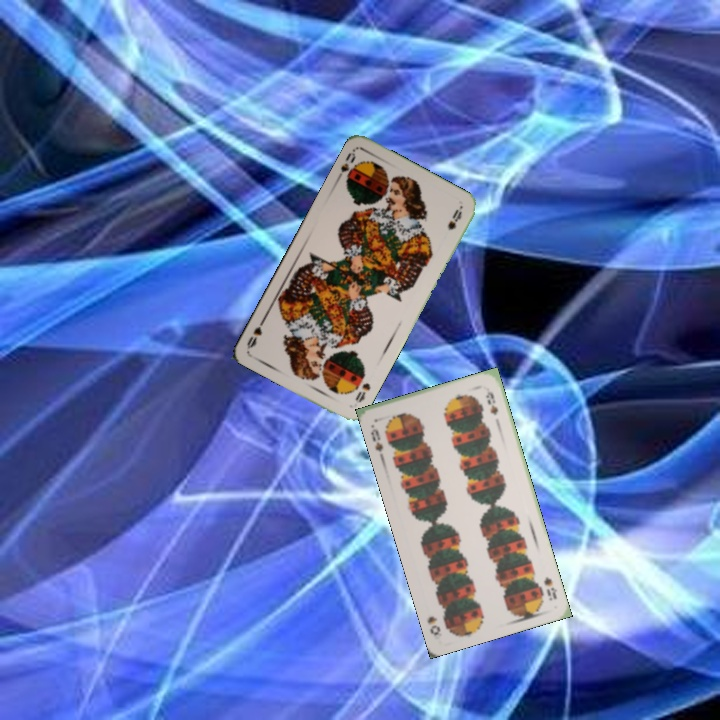S8: (540, 572, 559, 603), (366, 425, 385, 454)
SO: (332, 146, 361, 188), (351, 379, 373, 405)
